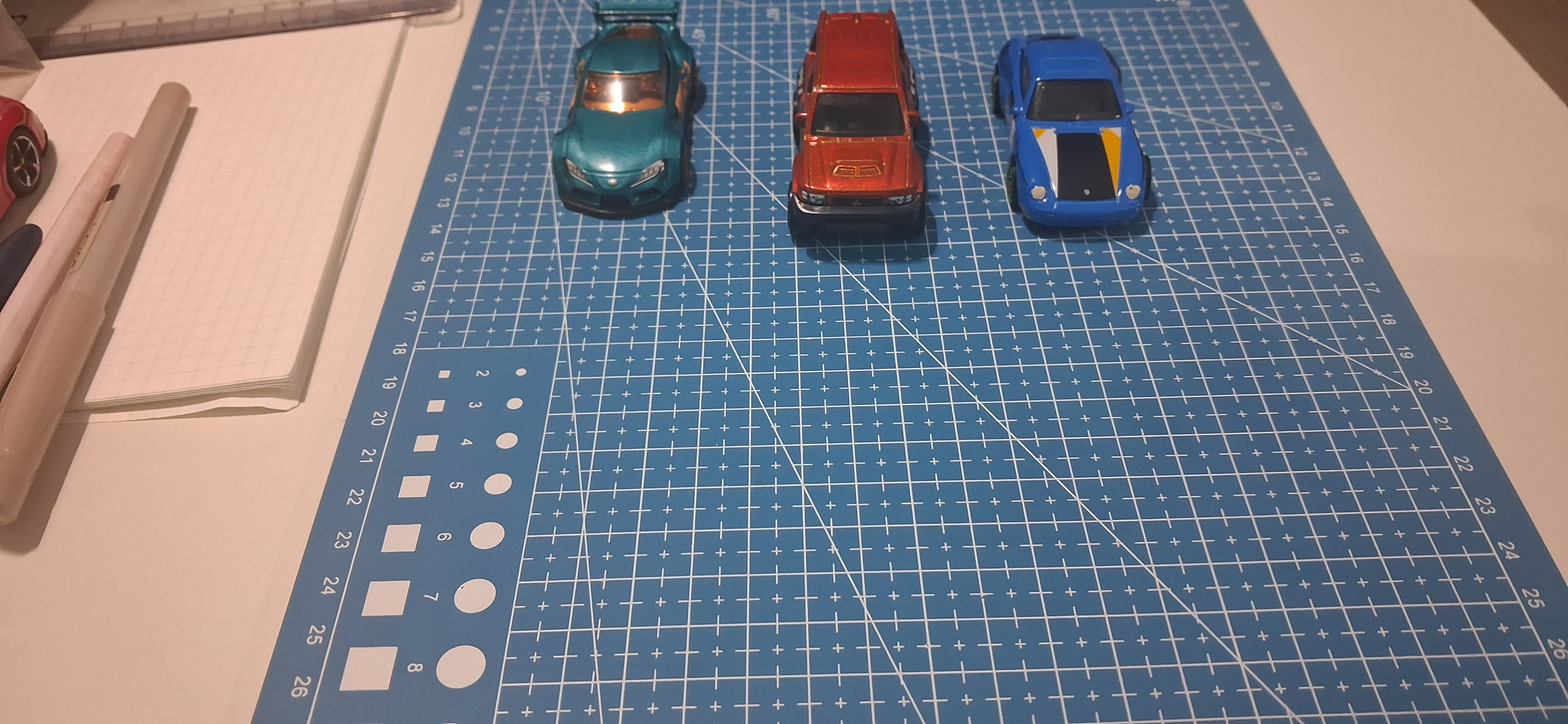Mitsubishi_Pajero_Evolution: (774, 10, 950, 269)
Porsche_Carrera: (976, 12, 1180, 257)
Toyota_GR_Supra: (532, 0, 724, 242)
